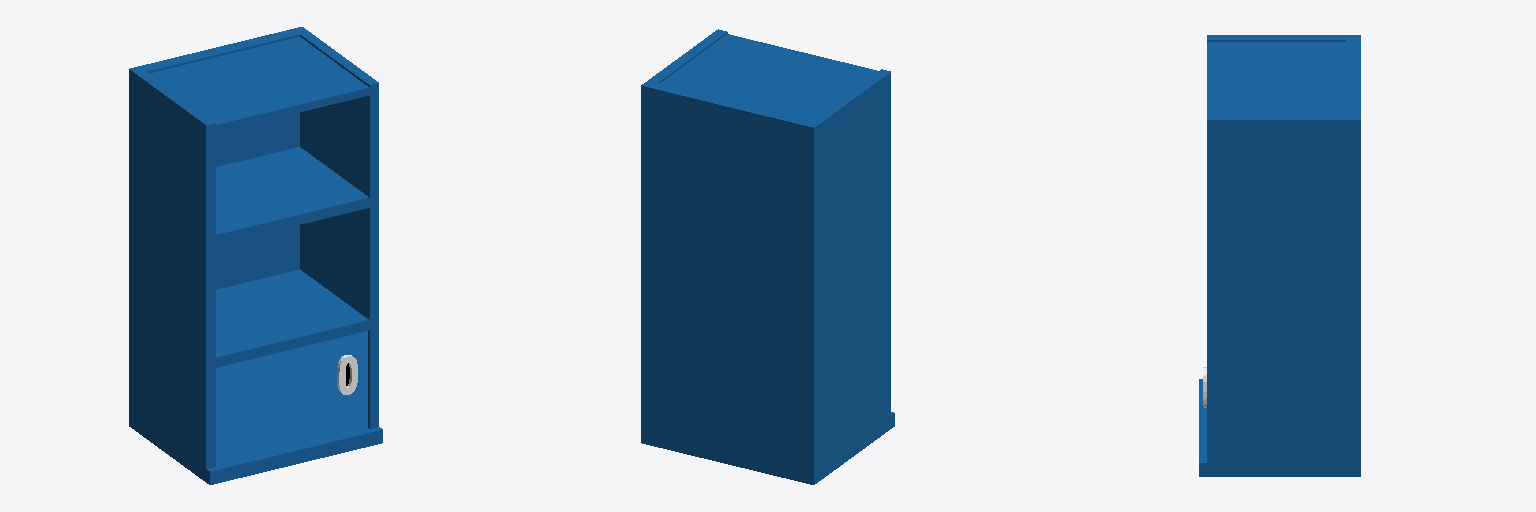
File: bookcase2.obj
3 renders of one model, left to right at view 1: azimuth 30°, elevation 25°; view 2: azimuth 150°, elevation 25°; view 3: azimuth 270°, elevation 25°, orthographic.
Visible parts, largest first — view 1: tinker; view 2: tinker; view 3: tinker.
Part boxes in pixels (bbox=[...]): tinker: bbox=[129, 27, 382, 484]; tinker: bbox=[641, 29, 894, 484]; tinker: bbox=[1199, 35, 1360, 476].
Bounding box in the file's own units: 53.28 × 105 × 43.